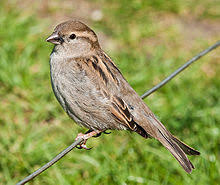hsparrow: (40, 17, 203, 173)
